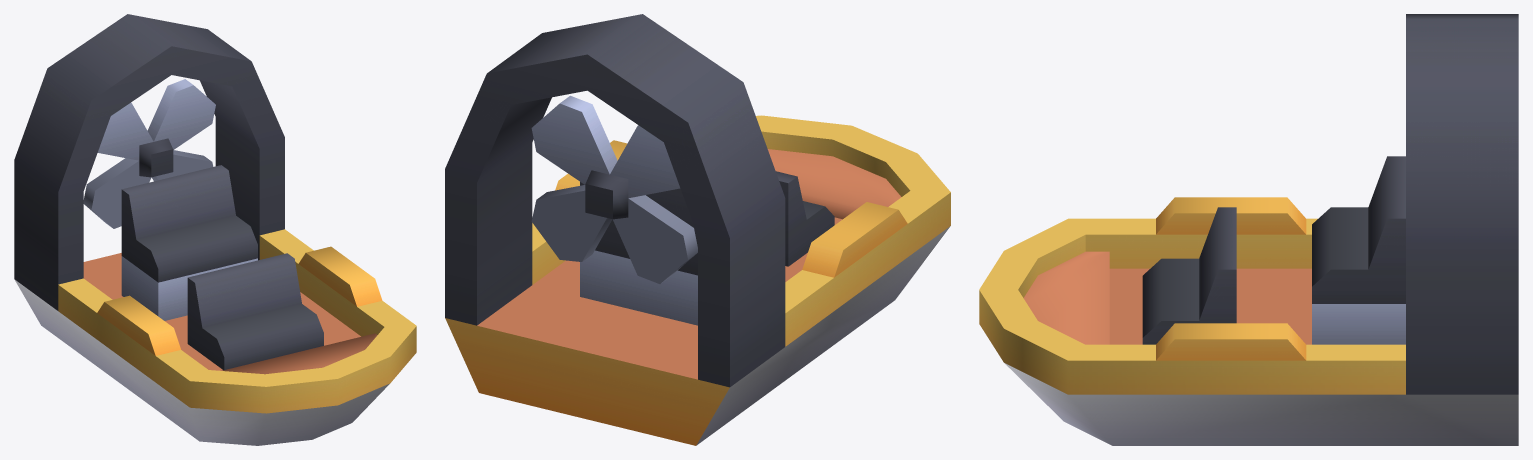
File: boat-fan-transformed-transformed.glb
3 renders of one model, left to right at view 1: azimuth 30°, elevation 25°; view 2: azimuth 150°, elevation 25°; view 3: azimuth 270°, elevation 25°, orthographic. The views are drawn at different scales.
Parts seen in each view (by area): view 1: boat-fan, fan; view 2: boat-fan, fan; view 3: boat-fan.
Part boxes in pixels (<box>): boat-fan: <box>14,14,416,445</box>; fan: <box>83,79,215,228</box>; boat-fan: <box>445,14,950,445</box>; fan: <box>531,95,697,283</box>; boat-fan: <box>979,14,1518,445</box>.
Size of the model in its own units: 1.78 by 2.19 by 2.87.
Materials: 1 (1 with a texture image).
